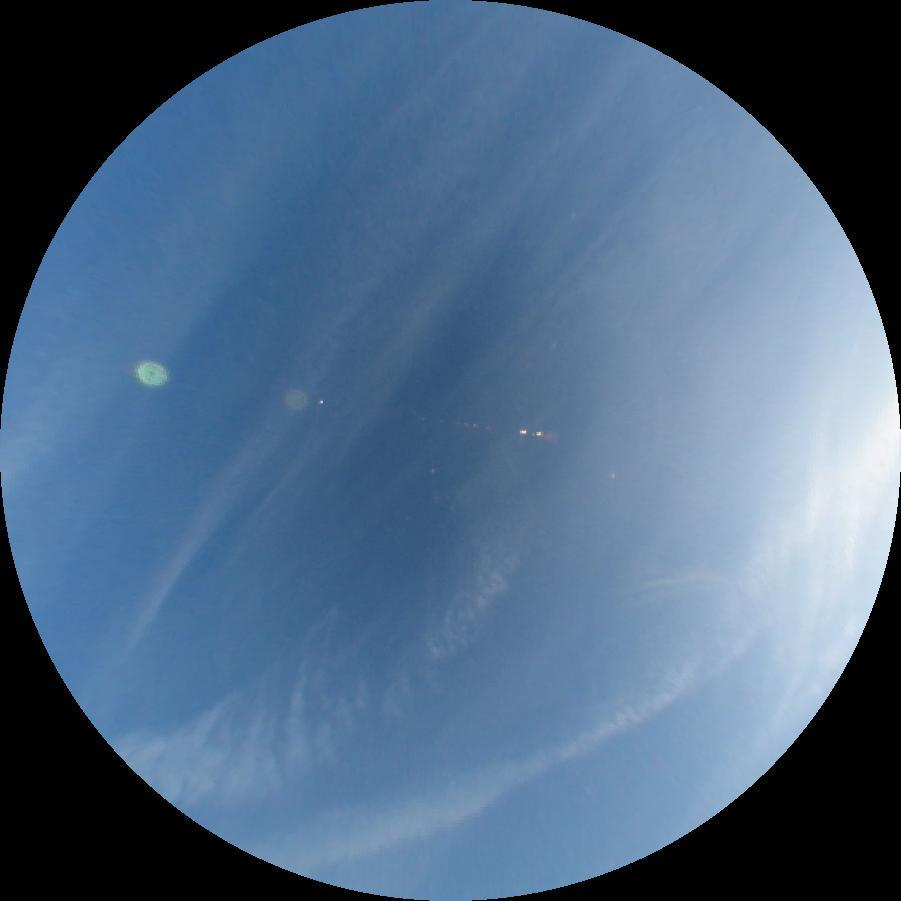contrail veryold: (106, 444, 592, 863), (248, 644, 761, 899)
